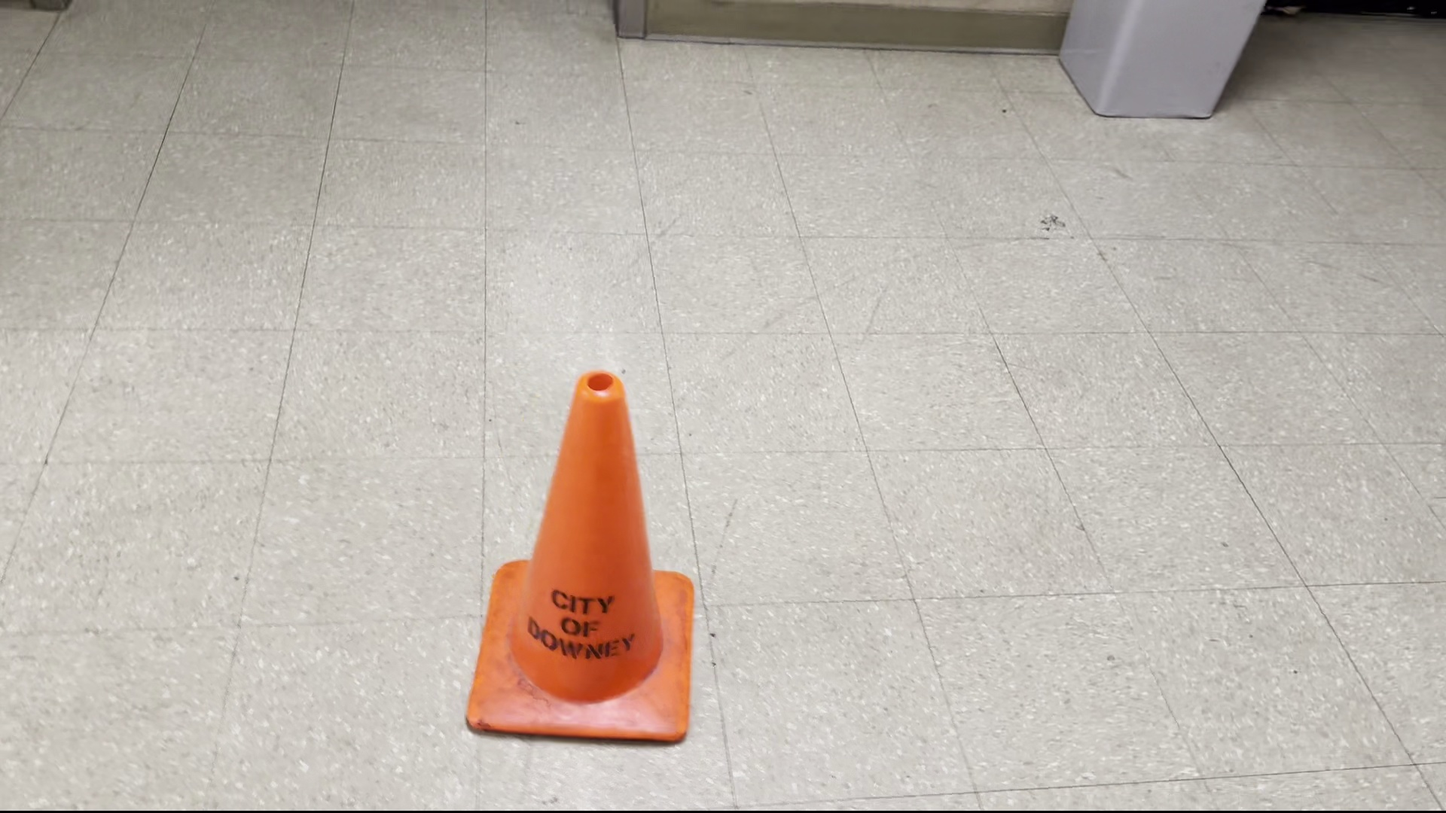traffic_cone: (465, 369, 694, 744)
